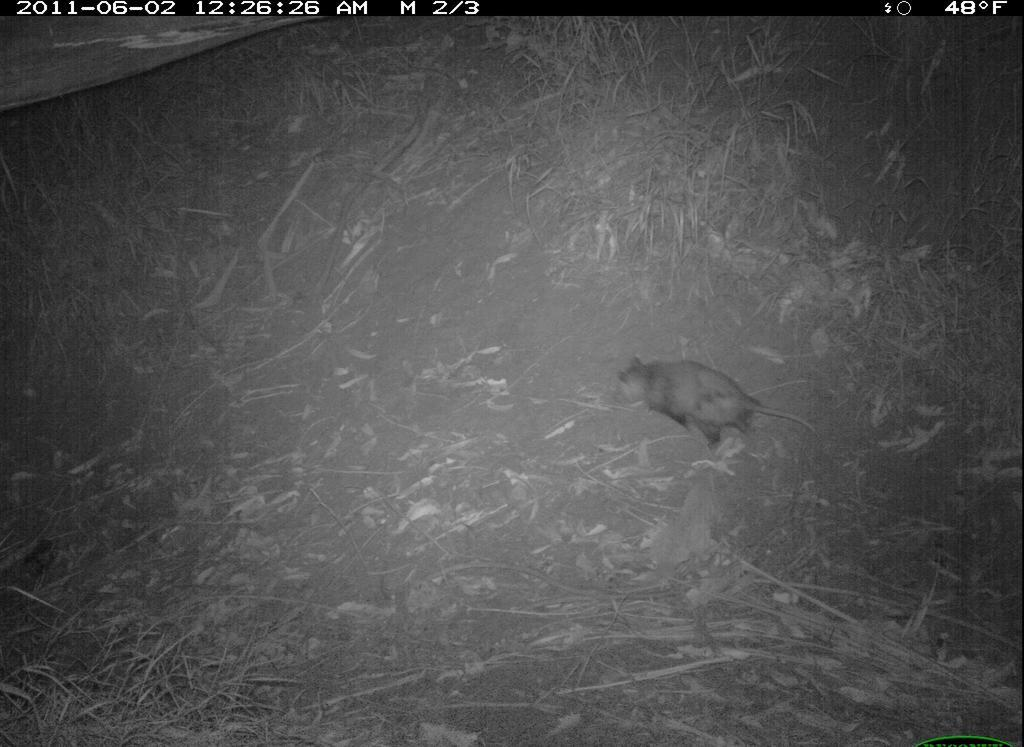opossum: (615, 347, 845, 477)
